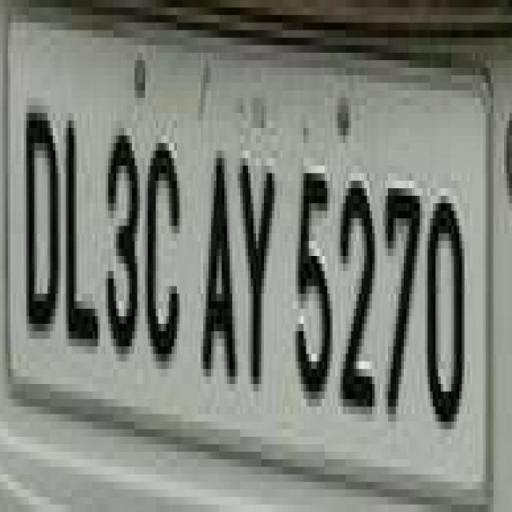number plate: (0, 30, 491, 460)
